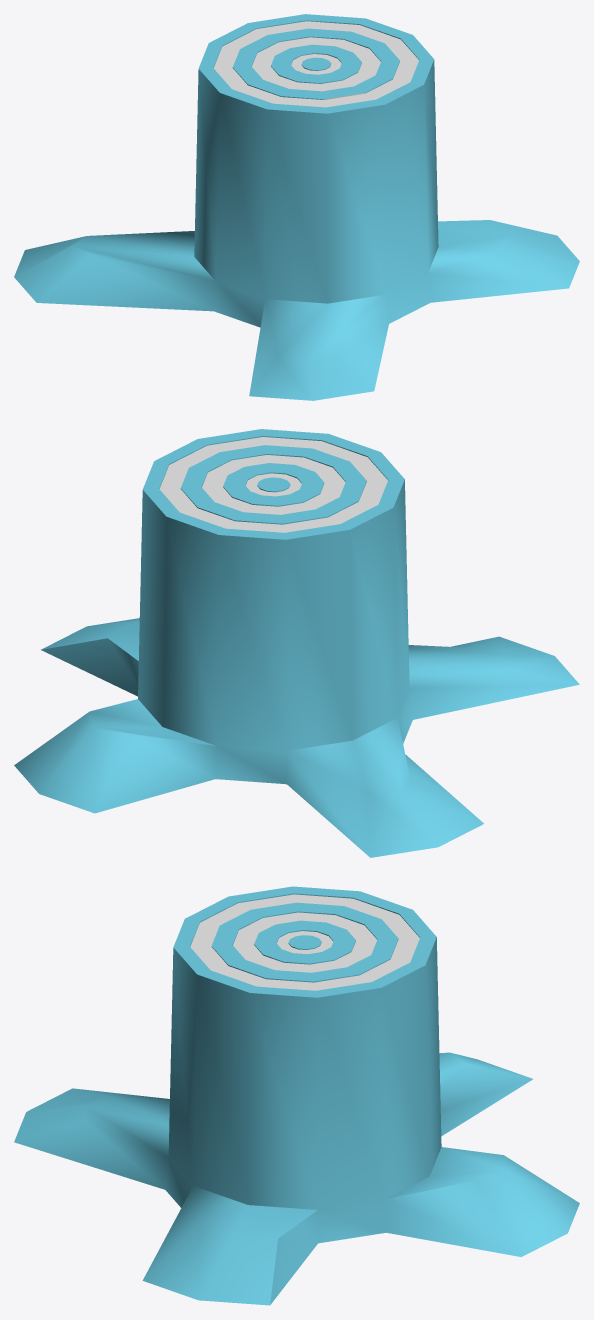
File: TreeStump.fbx
3 renders of one model, top to bottom at view 1: azimuth 30°, elevation 25°; view 2: azimuth 150°, elevation 25°; view 3: azimuth 270°, elevation 25°, orthographic. The views are drawn at different scales.
Visible parts, largest first — view 1: treeStump; view 2: treeStump; view 3: treeStump.
Part boxes in pixels (x1=…): treeStump: x1=14, y1=14, x2=579, y2=400; treeStump: x1=14, y1=429, x2=579, y2=857; treeStump: x1=14, y1=886, x2=579, y2=1305.
Size of the model in its own units: 0.8328 by 0.375 by 0.7942.
